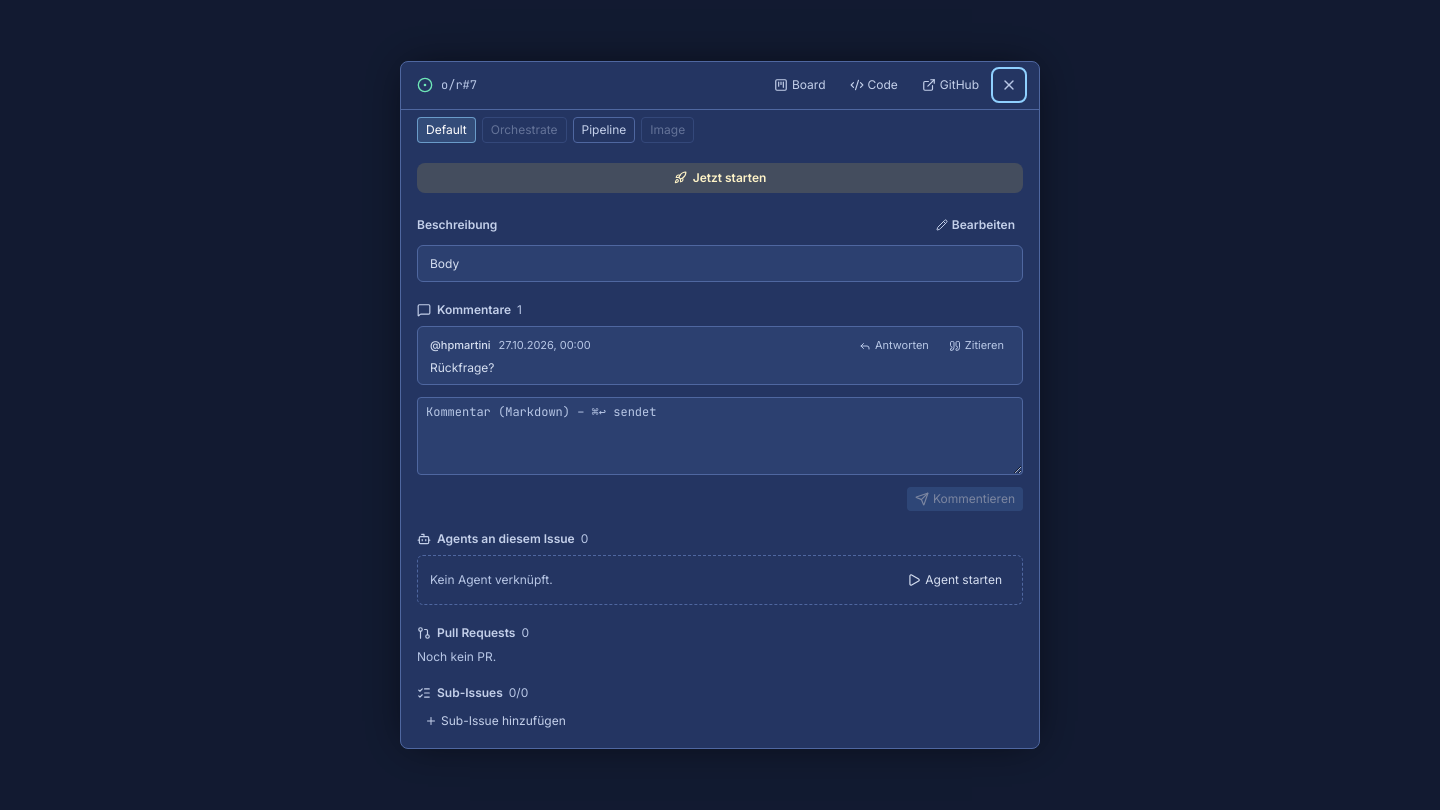
Test: IssueModal (#104) › keeps the draft when sending fails
The width and height of the screenshot is (1440, 810).
(page scrolled)
Expected: the text "Rückfrage?" is shown, x1=430 y1=360 x2=494 y2=375
Type "Wichtig" into the text box with placeholder "Kommentar (Markdown) – ⌘↩ sendet" at (720, 436), box x1=417 y1=397 x2=1023 y2=475
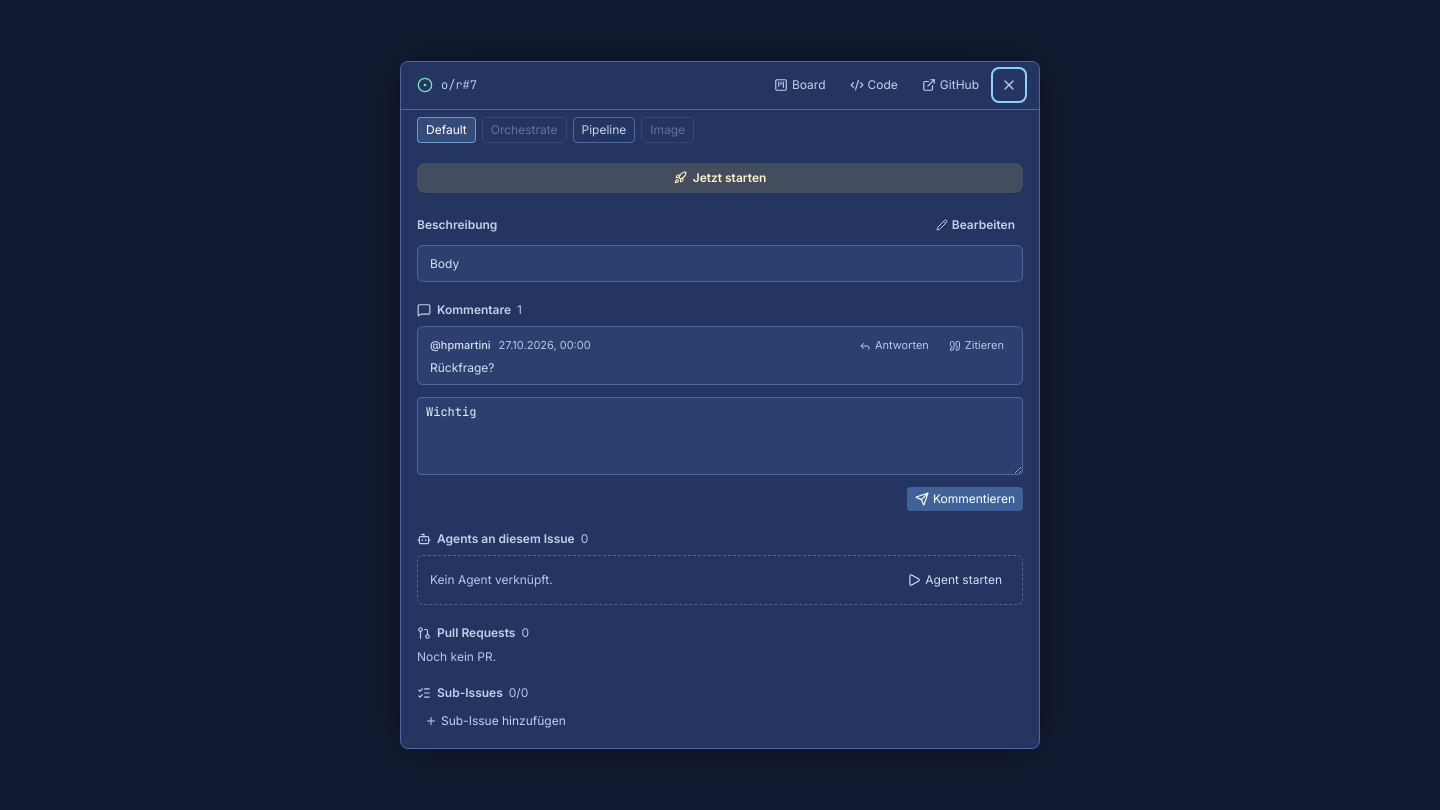
Click the button "Kommentieren" at (965, 499), box x1=907 y1=487 x2=1023 y2=511
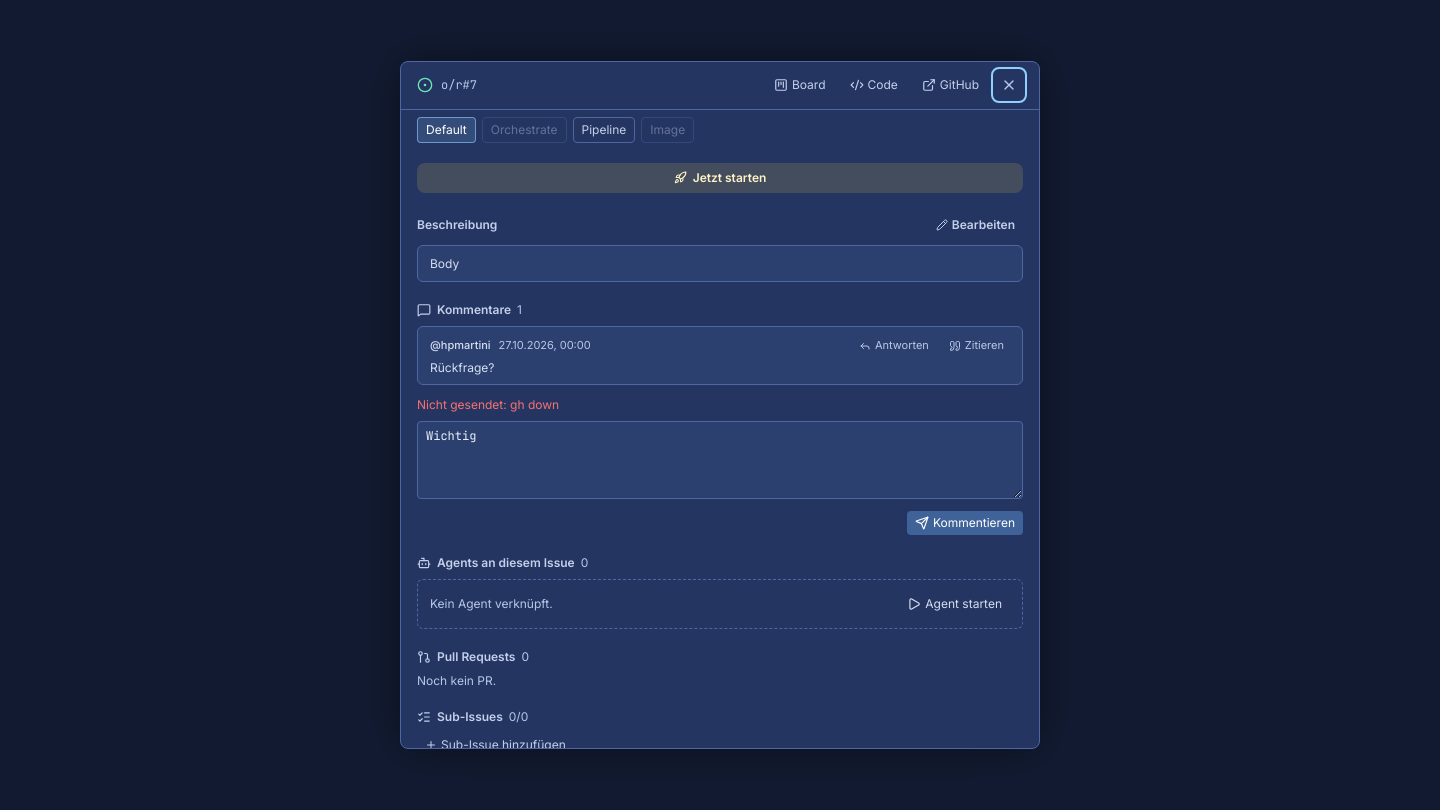
Expected: the text "Nicht gesendet: gh down" is shown, x1=417 y1=397 x2=559 y2=412
